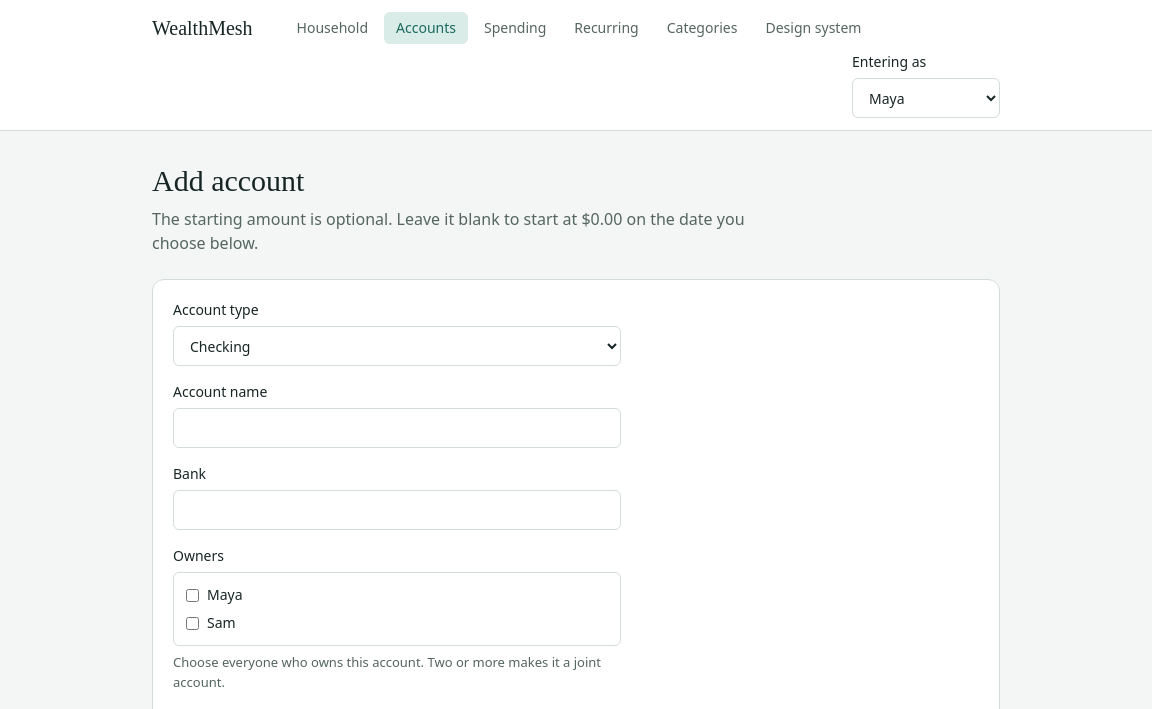
Test: adding a defined benefit › V2_DB_001 asks for a participant, a plan-reported value and an as-of date, and no cash or holdings
Select "Defined benefit" in the dropdown labelled "Account type" at (397, 346), box [173,326,621,366]
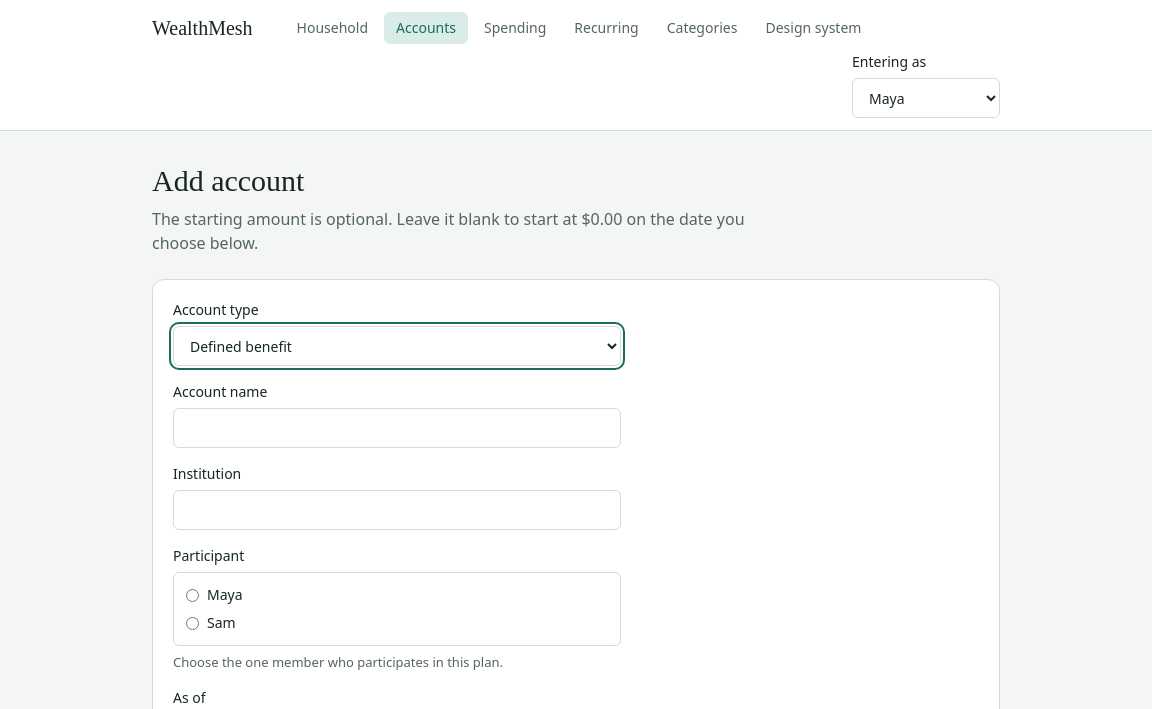
expect the element "Participant" is shown: met, box [173,546,621,672]
expect the label labelled "Bank" is gone: met
expect the text labelled "Owners" is gone: met
